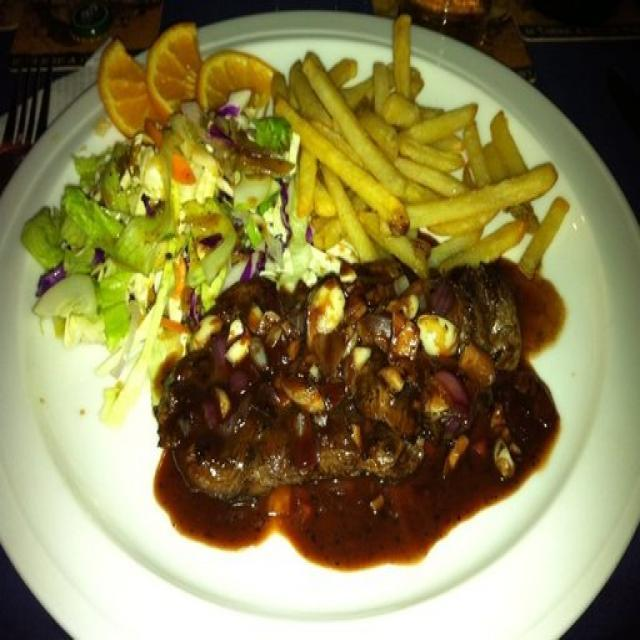French fries: (294, 54, 560, 278)
Steak: (176, 304, 554, 520)
